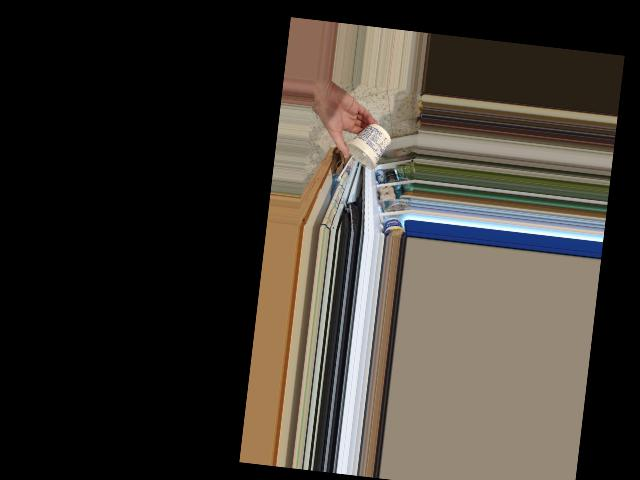cotage: (340, 118, 388, 168)
